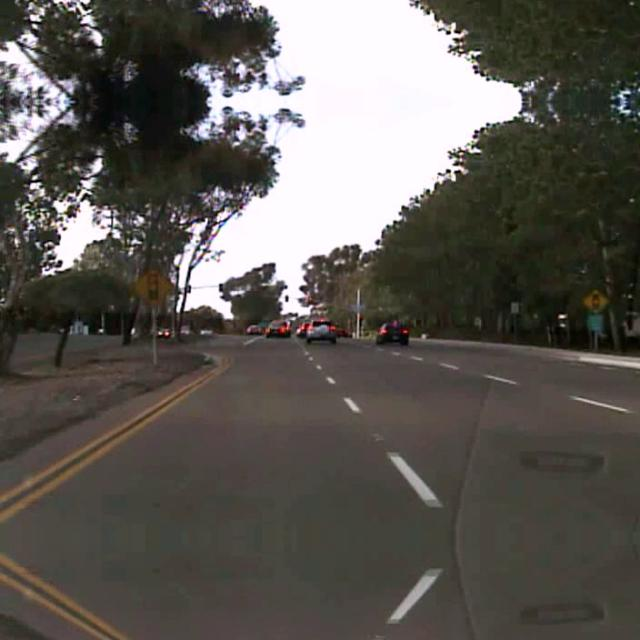signalAhead: (132, 265, 174, 305), (582, 288, 608, 314)
